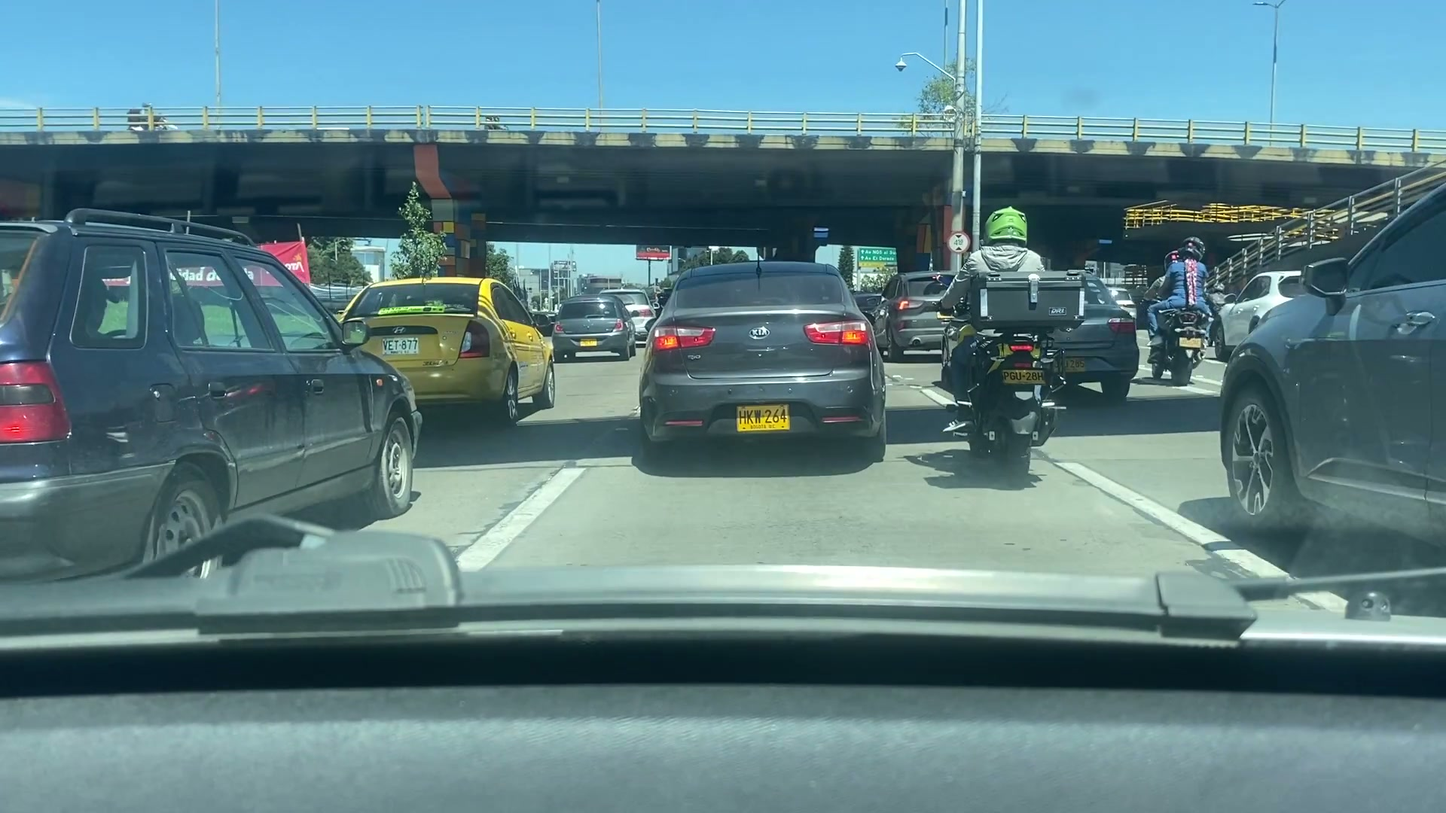car: (0, 216, 425, 577), (1223, 182, 1446, 560), (638, 261, 885, 456), (326, 272, 566, 415), (1030, 268, 1140, 398), (871, 268, 969, 360), (1217, 269, 1316, 358), (550, 296, 638, 357), (599, 286, 662, 338)
motorcycle: (938, 330, 1078, 482), (1145, 303, 1213, 390)
person: (946, 204, 1059, 437), (1145, 236, 1211, 351)
